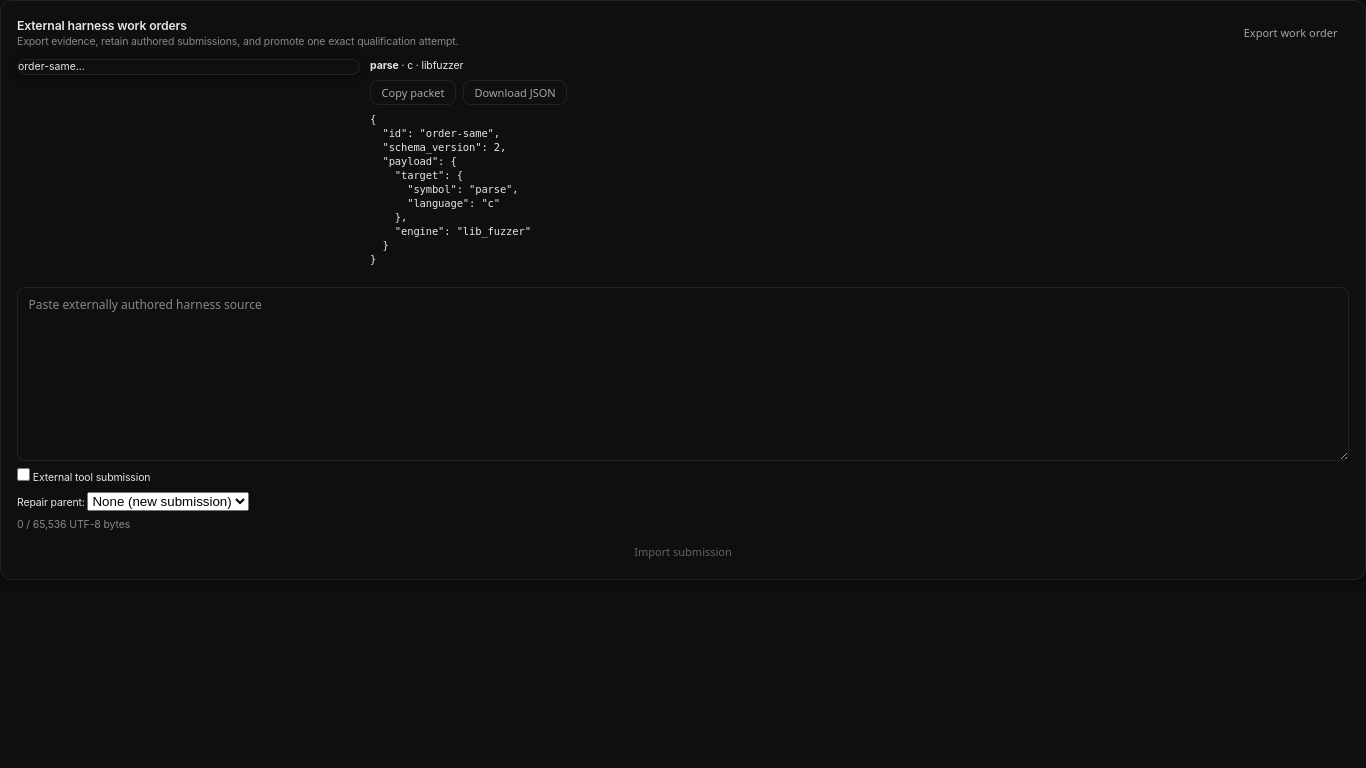
Test: expert workflow panels › lets an in-flight history read finish when export returns the same order
Click the button "Export work order".
click(1291, 33)  # box [1232, 20, 1349, 45]
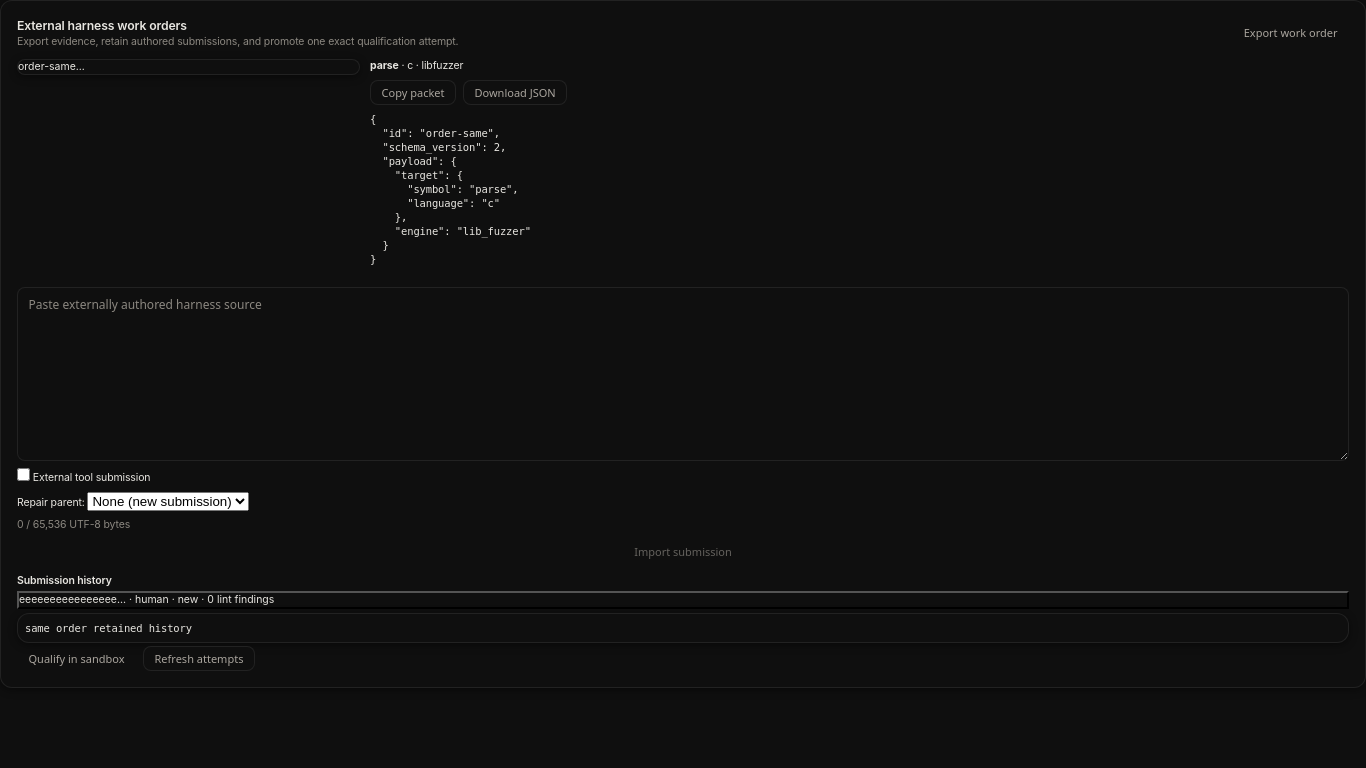
Result: the text "same order retained history" is shown at [25, 622, 192, 634]
